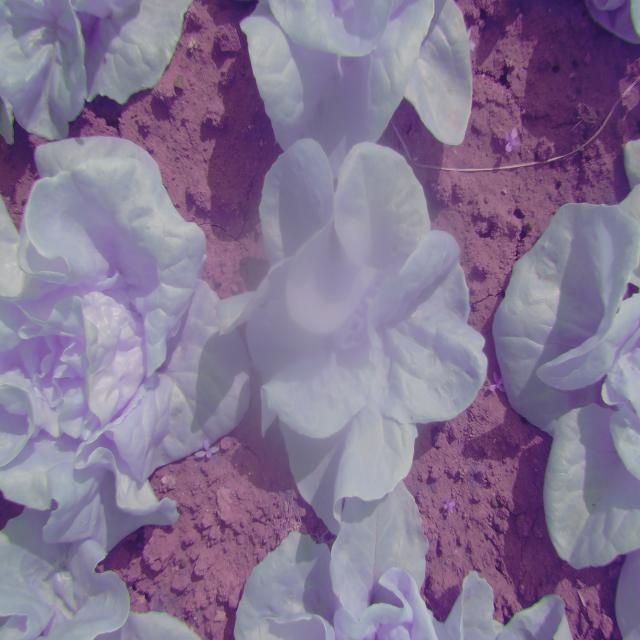vege: (225, 146, 485, 515)
